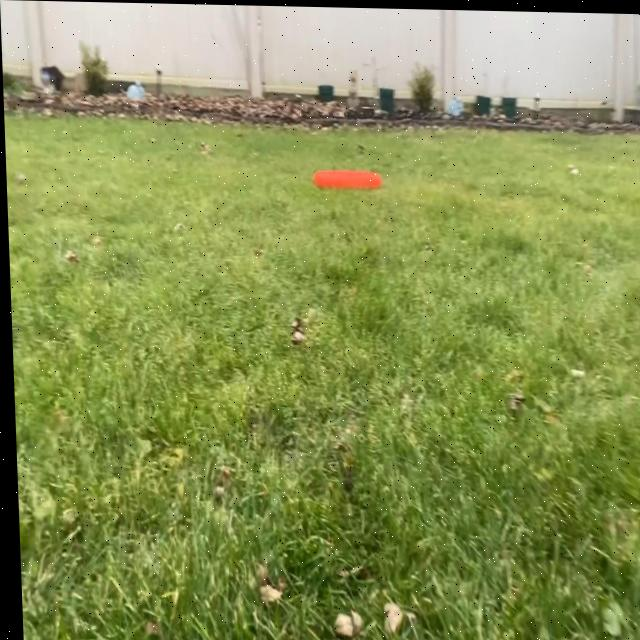note: (310, 161, 383, 196)
